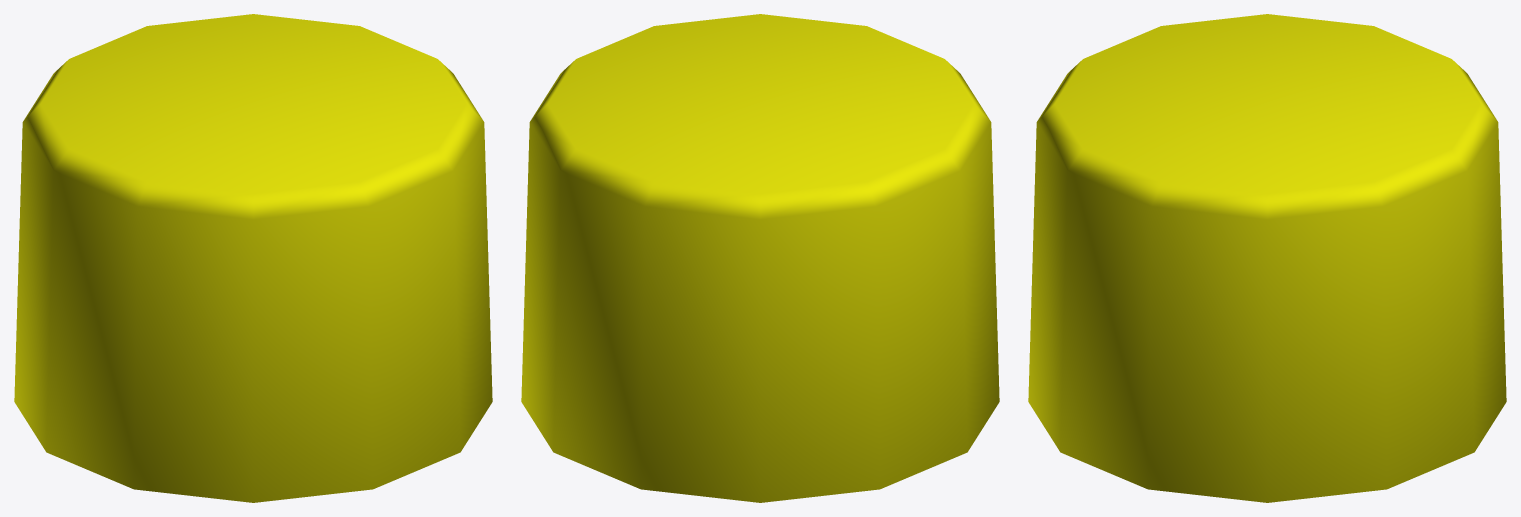
File: Pillar_Base_01.fbx
3 renders of one model, left to right at view 1: azimuth 30°, elevation 25°; view 2: azimuth 150°, elevation 25°; view 3: azimuth 270°, elevation 25°, orthographic.
Visible parts, largest first — view 1: Pillar_Base_01; view 2: Pillar_Base_01; view 3: Pillar_Base_01.
Boxes of the visible parts, bbox=[...] form: Pillar_Base_01: bbox=[14, 14, 492, 502]; Pillar_Base_01: bbox=[521, 14, 999, 502]; Pillar_Base_01: bbox=[1028, 14, 1506, 502].
Bounding box in the file's own units: 54.35 × 37.37 × 54.35.
